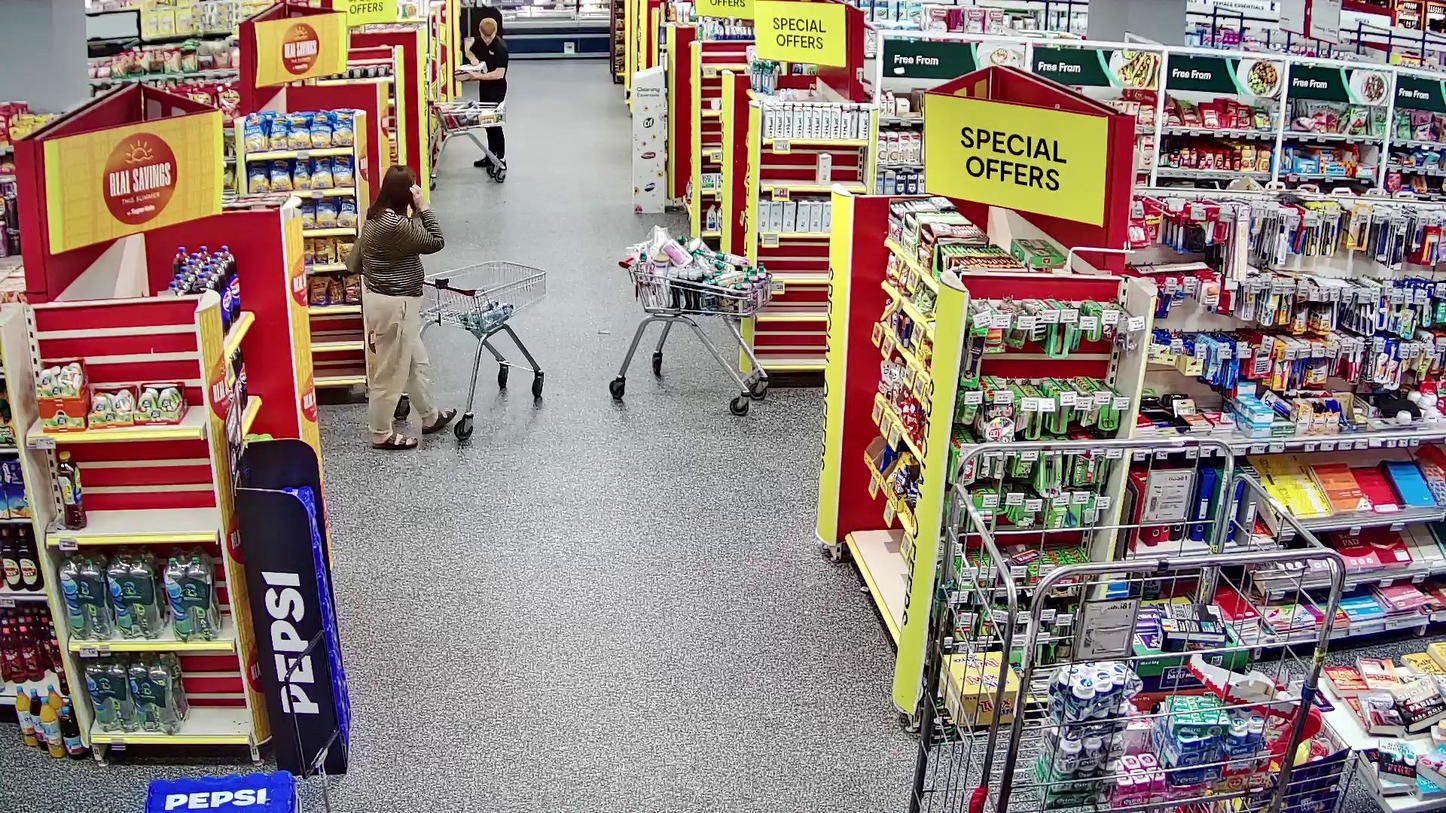backpack-or-handbag: (346, 239, 364, 273)
filled-trolly: (418, 259, 546, 439)
person: (362, 163, 456, 450)
person-with-basket-trolly-and-backpack-handbag: (346, 165, 547, 450)
